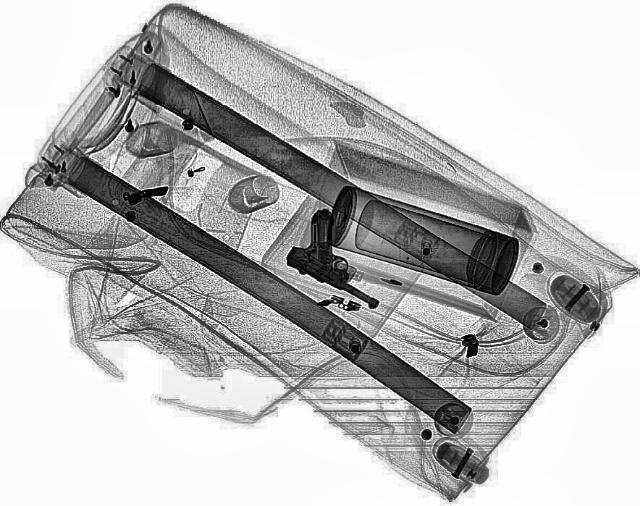Gun: (268, 206, 422, 313)
